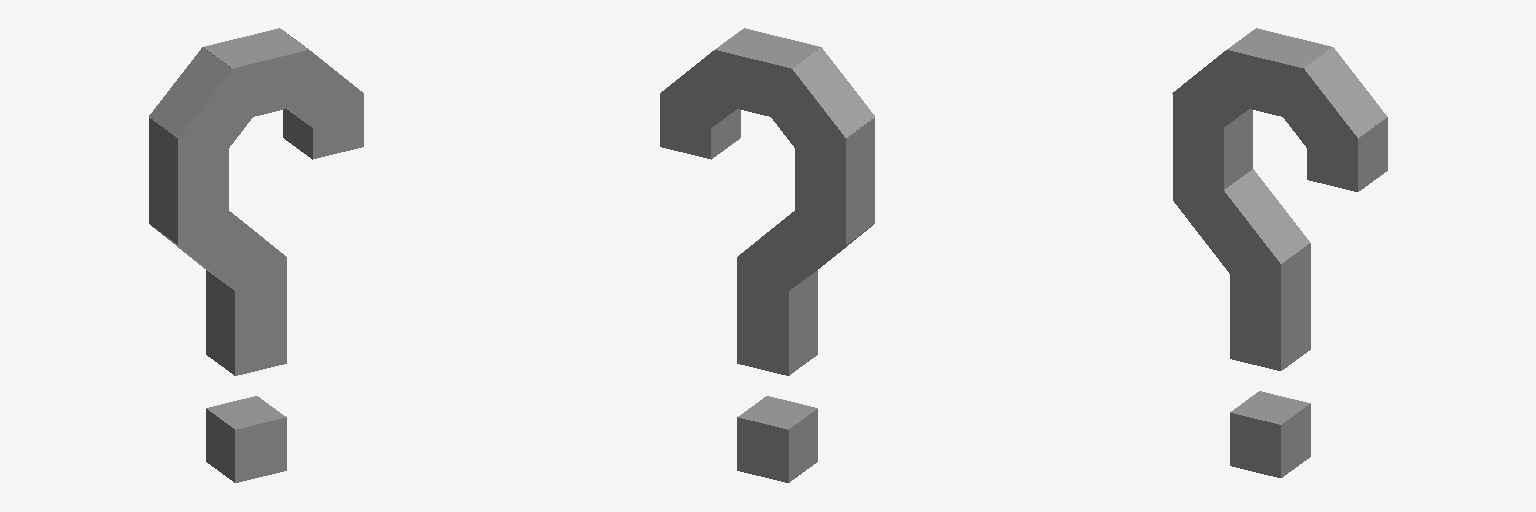
File: QuestionMark.obj
The picture shows the model from 3 angles: view 1: azimuth 30°, elevation 25°; view 2: azimuth 150°, elevation 25°; view 3: azimuth 330°, elevation 25°; orthographic projection.
Visible parts, largest first — view 1: Cube.001, Cube.003, Cube.004, Cube, Cube.005, Cube.002, Cube.007, Cube.006; view 2: Cube.003, Cube.001, Cube.004, Cube, Cube.005, Cube.002, Cube.006, Cube.007; view 3: Cube.001, Cube.002, Cube.006, Cube.003, Cube, Cube.005, Cube.007, Cube.004.
Part boxes in pixels (bbox=[...]): Cube.001: bbox=[206, 257, 286, 375]; Cube.003: bbox=[149, 118, 228, 244]; Cube.004: bbox=[149, 47, 267, 156]; Cube: bbox=[206, 396, 286, 482]; Cube.005: bbox=[203, 28, 308, 119]; Cube.002: bbox=[153, 199, 285, 302]; Cube.007: bbox=[283, 93, 363, 159]; Cube.006: bbox=[274, 29, 362, 136]; Cube.003: bbox=[795, 118, 874, 244]; Cube.001: bbox=[737, 257, 817, 375]; Cube.004: bbox=[771, 47, 874, 166]; Cube: bbox=[737, 396, 817, 482]; Cube.005: bbox=[715, 28, 820, 121]; Cube.002: bbox=[738, 211, 870, 302]; Cube.006: bbox=[661, 29, 750, 139]; Cube.007: bbox=[660, 93, 740, 159]; Cube.001: bbox=[1230, 243, 1310, 370]; Cube.002: bbox=[1173, 169, 1309, 292]; Cube.006: bbox=[1268, 47, 1386, 166]; Cube.003: bbox=[1173, 91, 1252, 204]; Cube: bbox=[1230, 391, 1310, 477]; Cube.005: bbox=[1227, 28, 1331, 121]; Cube.007: bbox=[1307, 117, 1387, 191]; Cube.004: bbox=[1172, 29, 1262, 126].
Bounding box in the file's own units: 7.26 × 15.53 × 2.